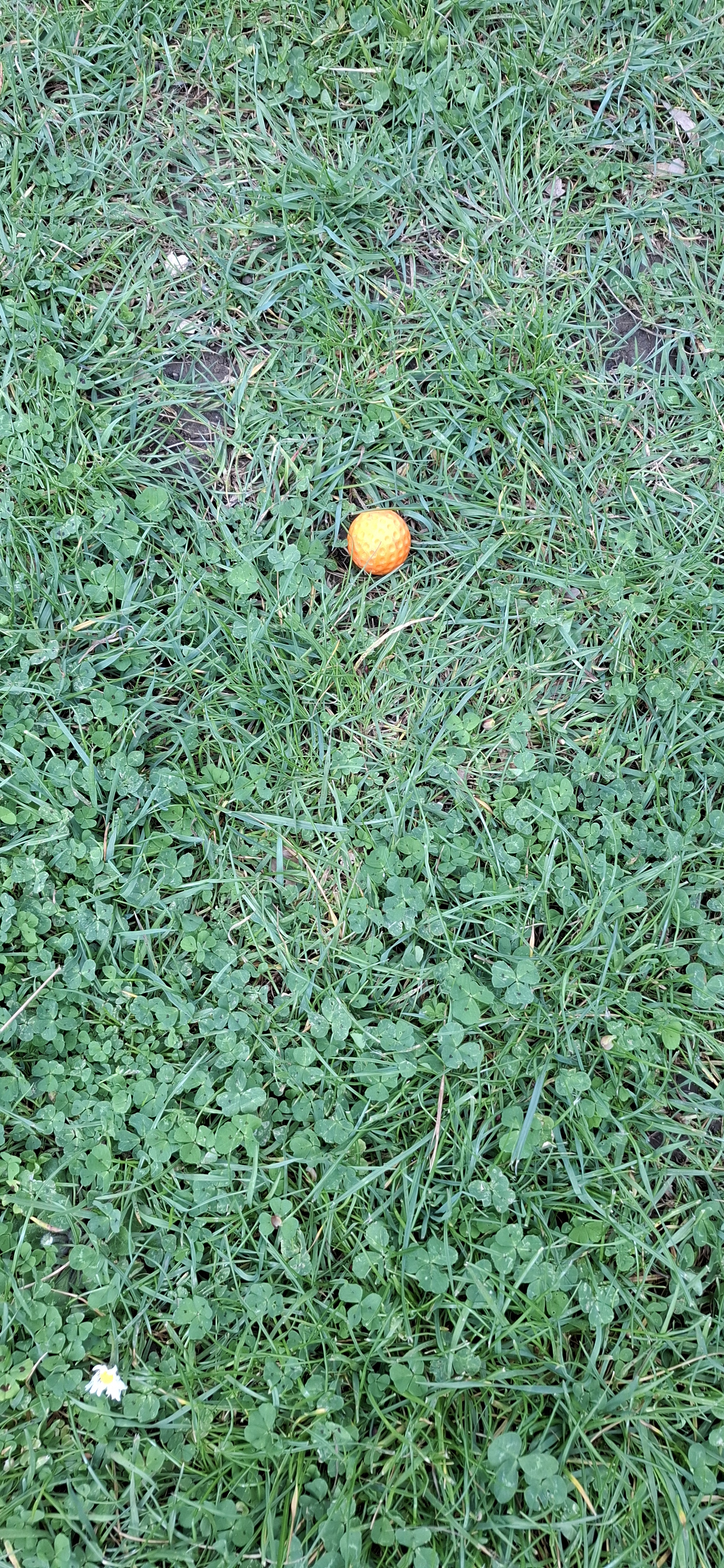ball: (234, 677, 266, 815)
